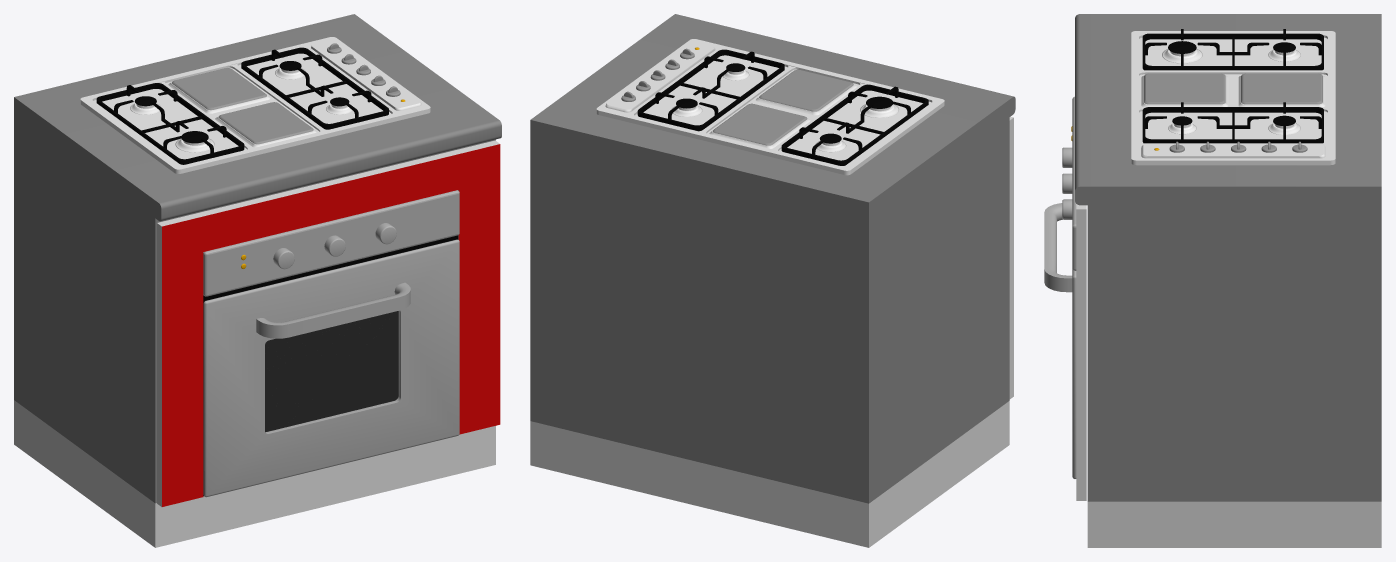
Rendered from Cooker.glb.
The picture shows the model from 3 angles, left to right: view 1: azimuth 30°, elevation 25°; view 2: azimuth 150°, elevation 25°; view 3: azimuth 270°, elevation 25°; orthographic projection. The views are drawn at different scales.
Visible parts, largest first — view 1: Object_11, Object_8, Object_6, Object_7, Object_3, Object_14, Object_10, Object_4, Object_9, Object_15, Object_2, Object_5 (+1 smaller); view 2: Object_8, Object_7, Object_3, Object_14, Object_9, Object_15, Object_2, Object_16; view 3: Object_8, Object_7, Object_14, Object_3, Object_9, Object_15, Object_2, Object_11, Object_5, Object_16, Object_13.
Boxes of the visible parts, x1,y1,x2,y2 form: Object_11: [203, 190, 459, 497]; Object_8: [14, 115, 495, 503]; Object_6: [162, 144, 500, 506]; Object_7: [14, 14, 501, 221]; Object_3: [14, 400, 495, 547]; Object_14: [80, 37, 430, 173]; Object_10: [141, 80, 458, 496]; Object_4: [265, 311, 399, 432]; Object_9: [96, 47, 388, 164]; Object_15: [172, 68, 313, 144]; Object_2: [157, 140, 499, 506]; Object_5: [256, 282, 410, 338]; Object_8: [530, 117, 1009, 503]; Object_7: [530, 14, 1015, 219]; Object_3: [530, 401, 1009, 547]; Object_14: [596, 39, 944, 175]; Object_9: [637, 49, 928, 165]; Object_15: [712, 69, 853, 145]; Object_2: [1009, 116, 1013, 399]; Object_16: [621, 48, 694, 101]; Object_8: [1087, 205, 1381, 501]; Object_7: [1075, 14, 1381, 205]; Object_14: [1131, 31, 1335, 165]; Object_3: [1087, 501, 1381, 547]; Object_9: [1142, 29, 1323, 143]; Object_15: [1144, 73, 1322, 104]; Object_2: [1076, 204, 1086, 500]; Object_11: [1062, 96, 1076, 478]; Object_5: [1044, 203, 1072, 292]; Object_16: [1169, 141, 1307, 152]; Object_13: [1167, 49, 1296, 130].
Bounding box in the file's own units: 80 × 81.1 × 66.01.
